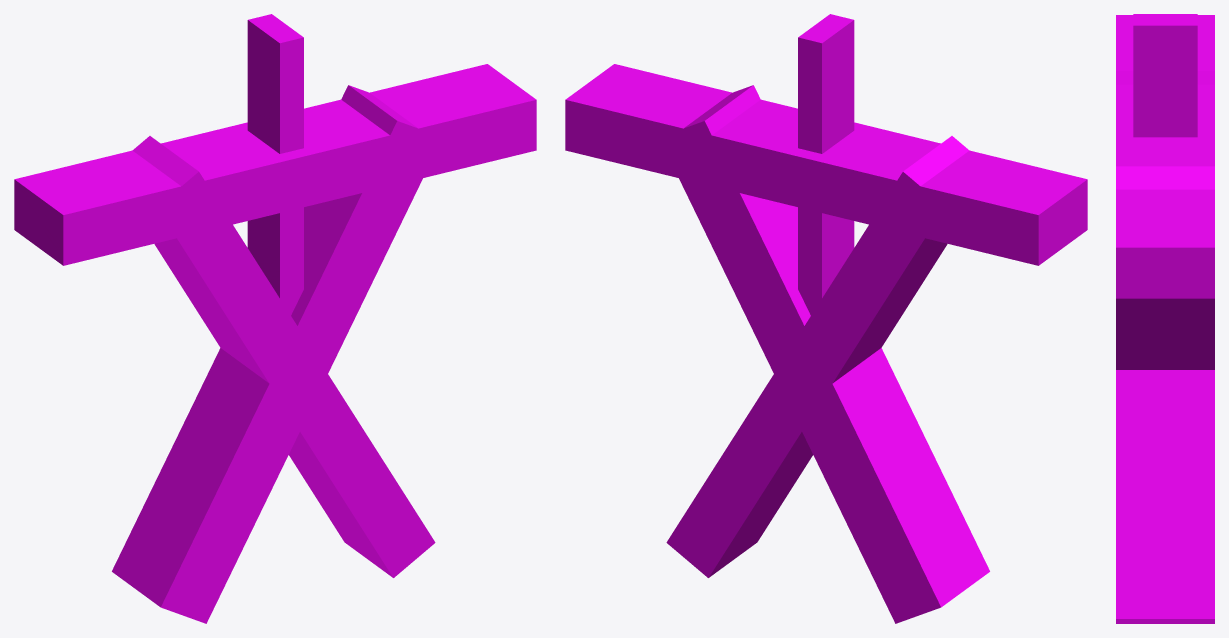
File: spawnerSymbol_purple.fbx
3 renders of one model, left to right at view 1: azimuth 30°, elevation 25°; view 2: azimuth 150°, elevation 25°; view 3: azimuth 270°, elevation 25°, orthographic.
Visible parts, largest first — view 1: symbol3; view 2: symbol3; view 3: symbol3.
Boxes of the visible parts, x1=… form: symbol3: x1=14, y1=14, x2=536, y2=623; symbol3: x1=565, y1=14, x2=1087, y2=623; symbol3: x1=1116, y1=14, x2=1214, y2=623.
Size of the model in its own units: 27.84 by 31.17 by 5.
